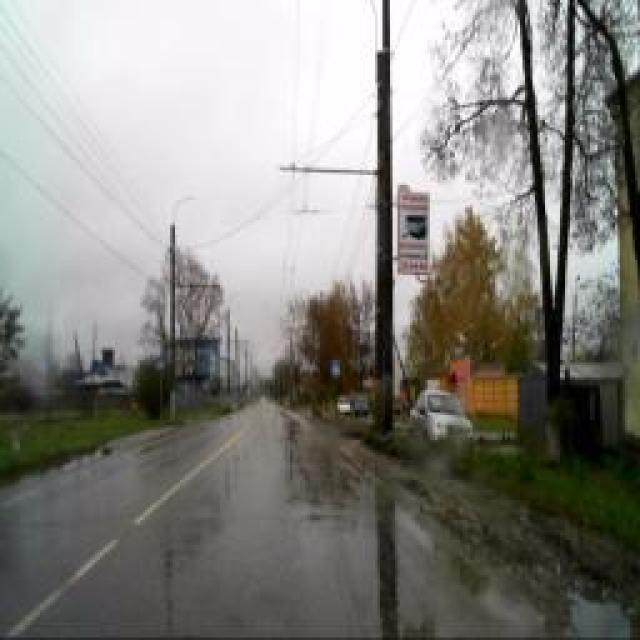sign: (329, 358, 341, 378), (154, 354, 166, 371)
